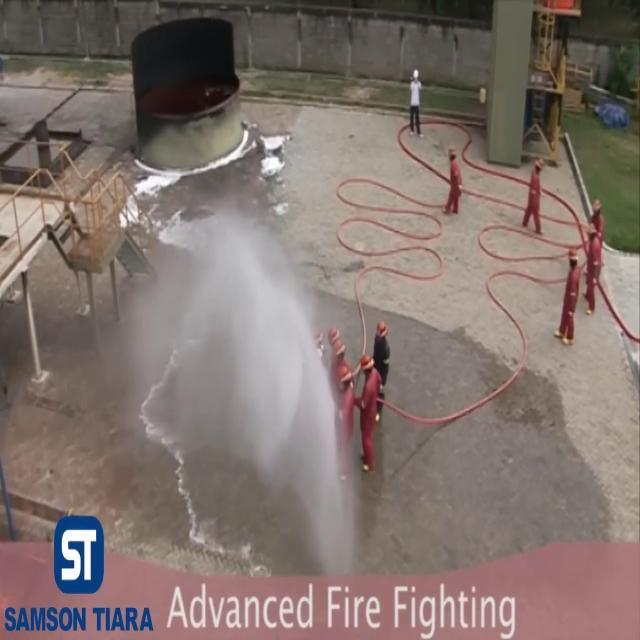Smoke: (91, 211, 358, 564)
